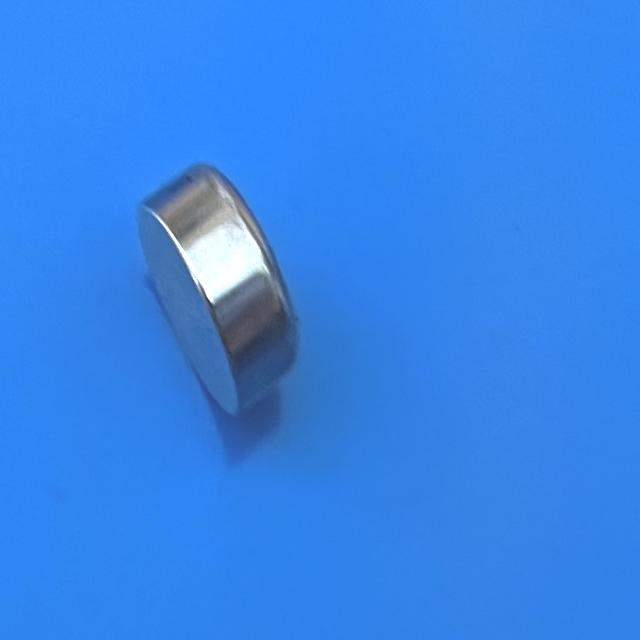COIN: (137, 160, 297, 422)
